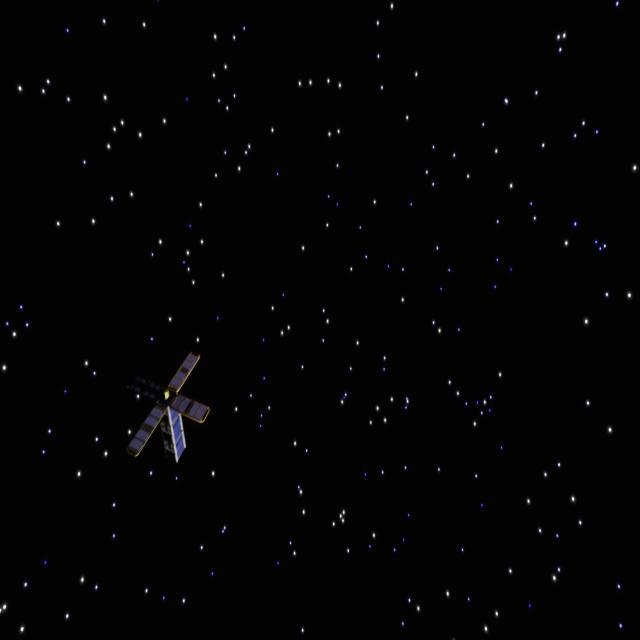medium_debris: (116, 350, 224, 470)
